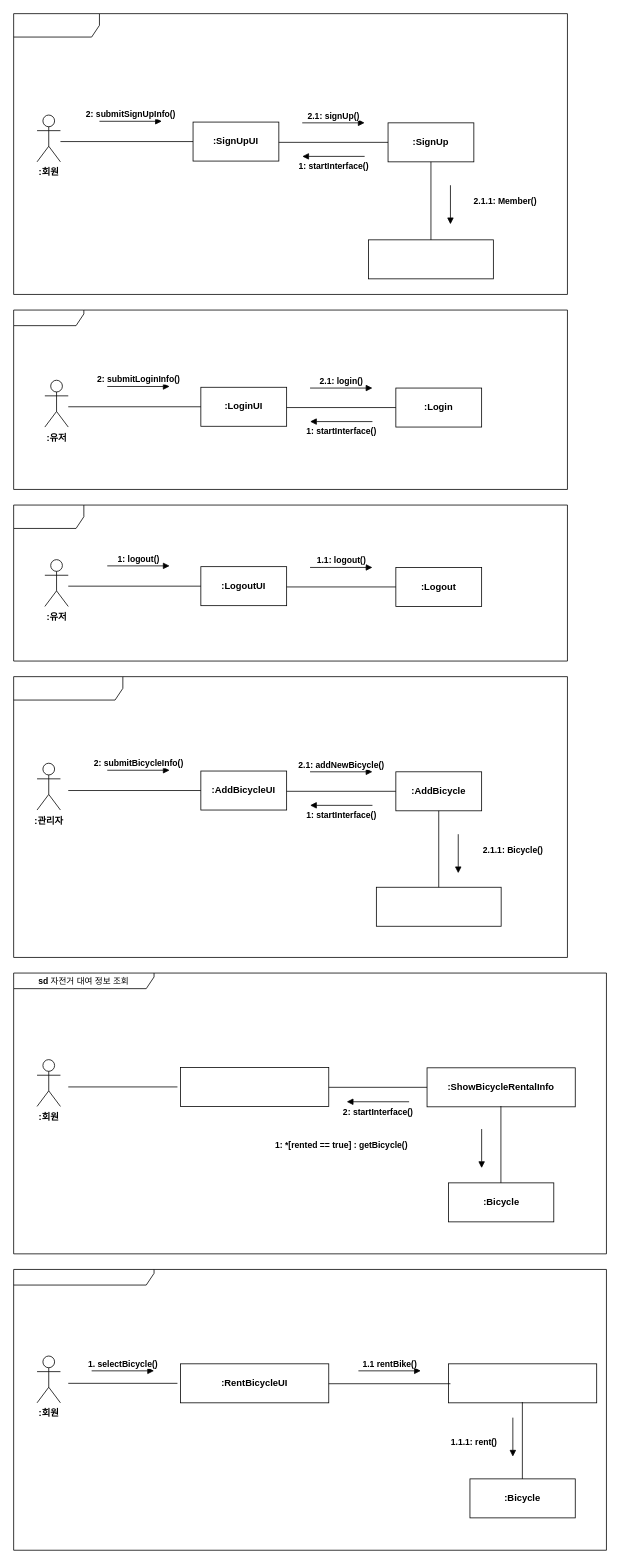
The diagram is 620 pixels wide and 1564 high, and some of its shapes have lost their labels. Each missing label, with the box of its shape:
:RentBicycle: (448, 1363, 597, 1403)
:ShowBicycleRentalInfoUI: (180, 1067, 329, 1106)
newBicycle:Bicycle: (376, 886, 501, 926)
newMember:Member: (368, 239, 493, 279)
sd 로그아웃: (13, 504, 567, 661)
sd 로그인: (13, 309, 567, 489)
sd 자전거 대여: (13, 1269, 606, 1550)
sd 자전거 정보 등록: (13, 676, 567, 957)
sd 회원 가입: (13, 13, 567, 294)
